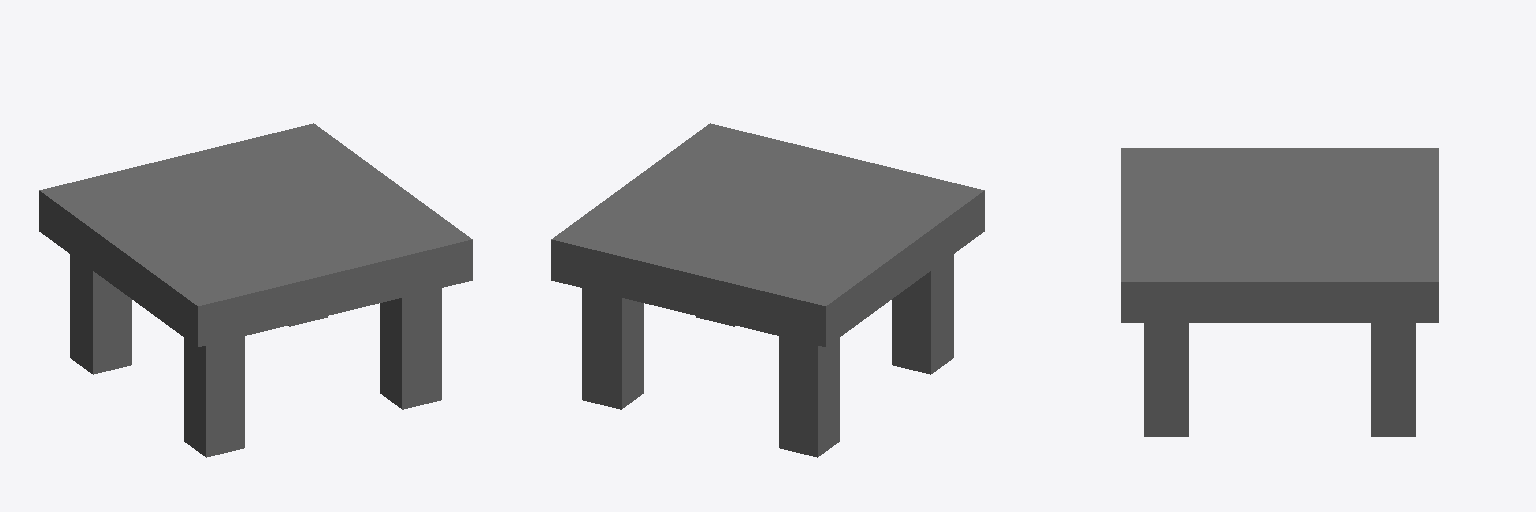
The picture shows the model from 3 angles: view 1: azimuth 30°, elevation 25°; view 2: azimuth 150°, elevation 25°; view 3: azimuth 270°, elevation 25°; orthographic projection.
Visible parts, largest first — view 1: cube; view 2: cube; view 3: cube.
Boxes of the visible parts, <box> form: cube: <box>39,123,472,457</box>; cube: <box>551,123,984,457</box>; cube: <box>1121,148,1438,436</box>.
Size of the model in its own units: 0.875 by 0.75 by 0.875.
1 materials, 1 textured.